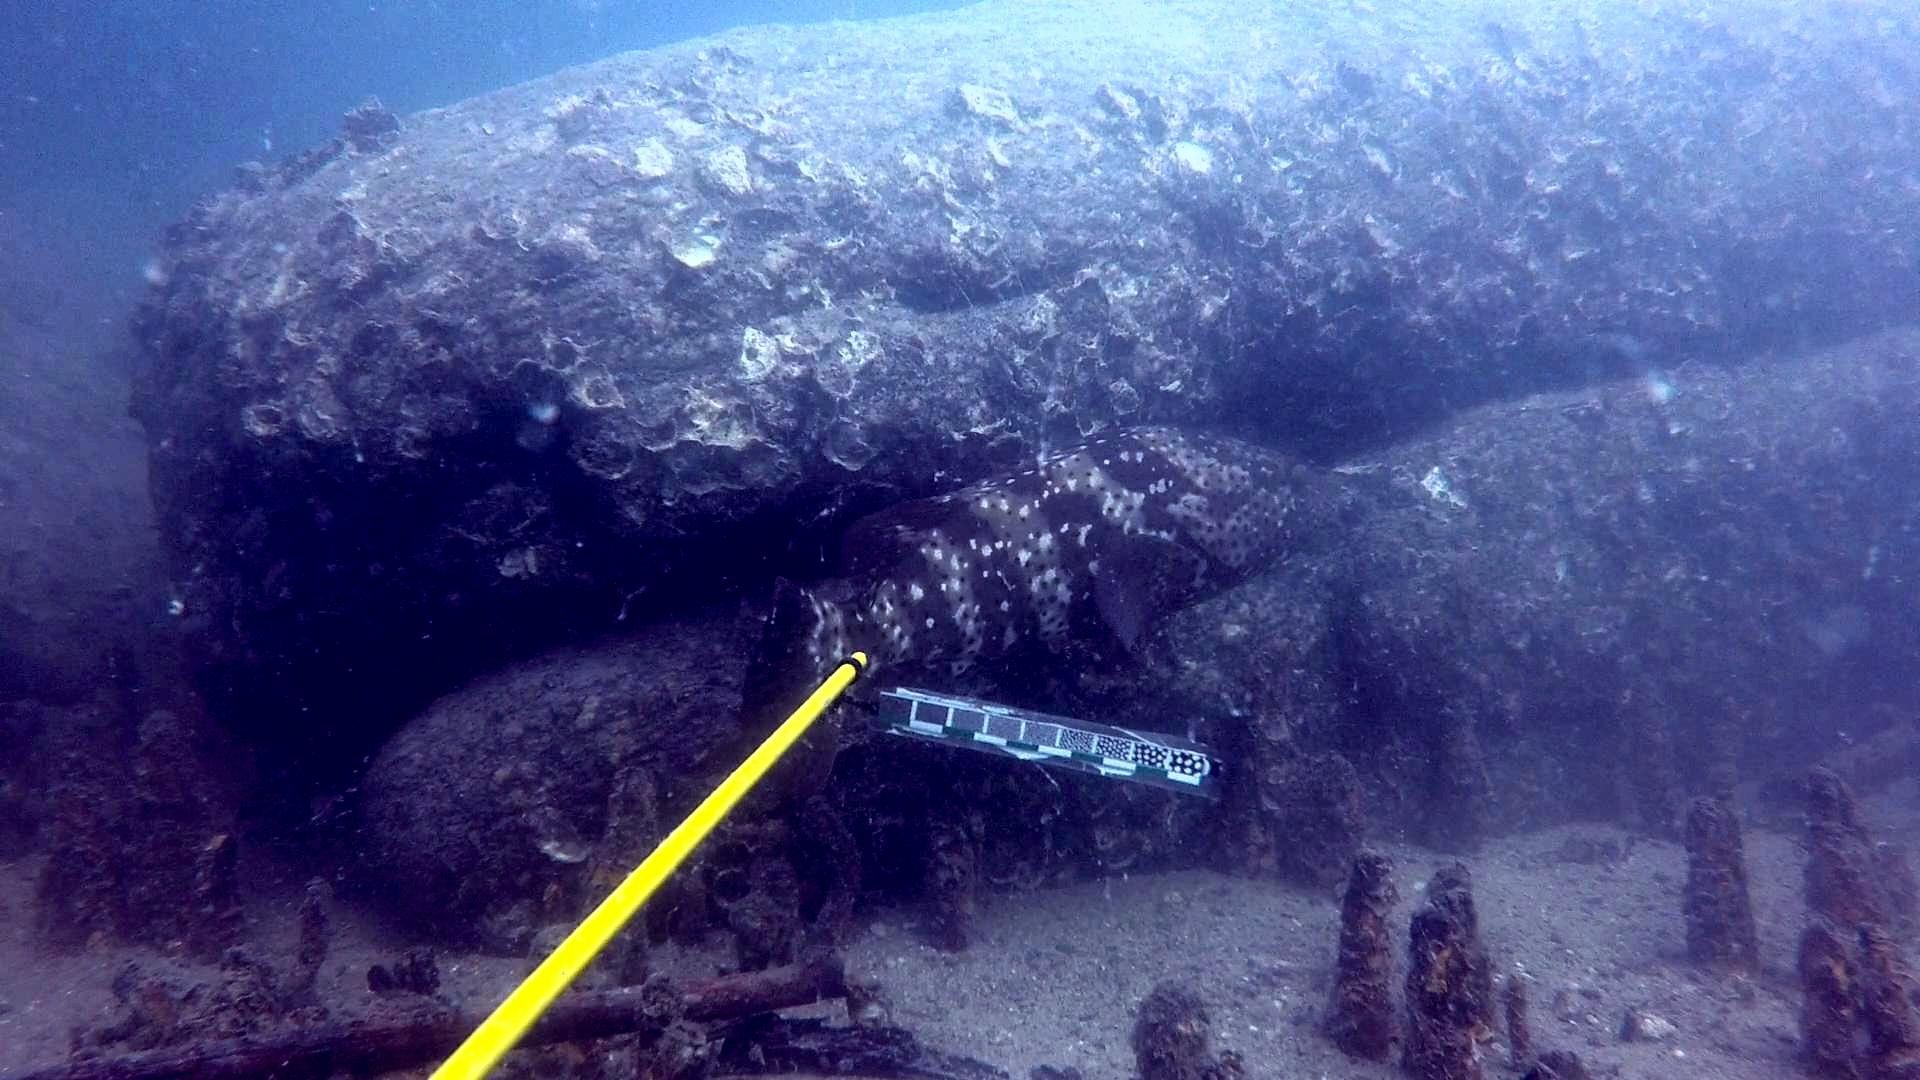epinephelus: (733, 404, 1367, 818)
